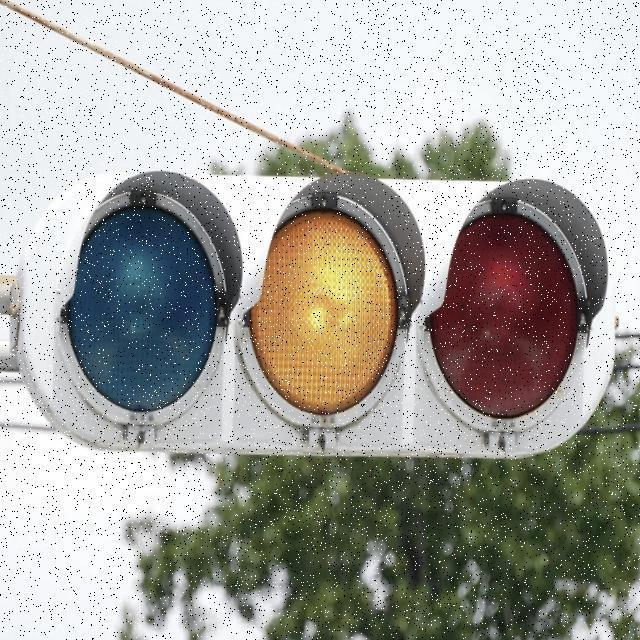yellow_light: (261, 177, 406, 432)
